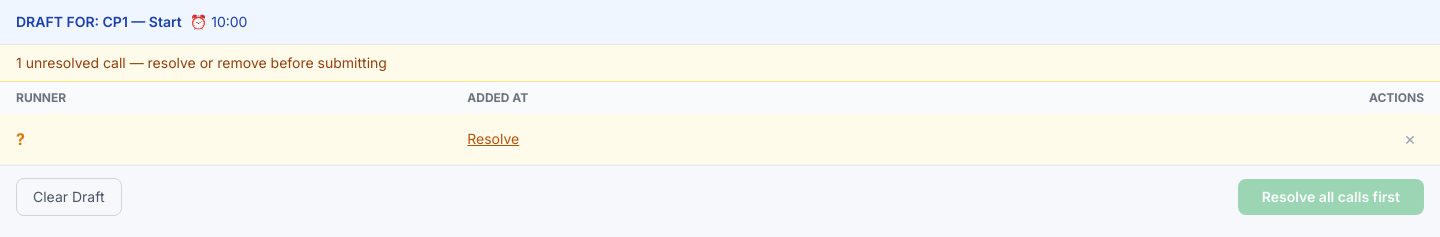
DraftView — unresolved chip › shows Resolve inline input after clicking Resolve button
Click the button "Resolve" at [493, 139], box [467,129,519,149]
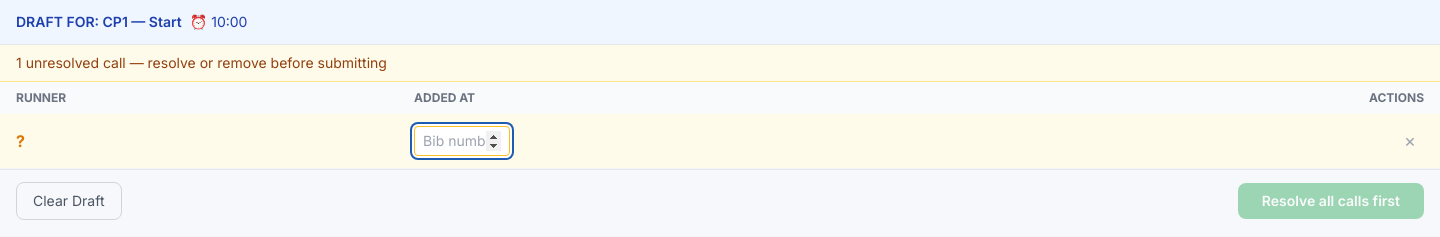
Expected: the number field with placeholder "Bib number…" is shown, [414,126,510,156]
